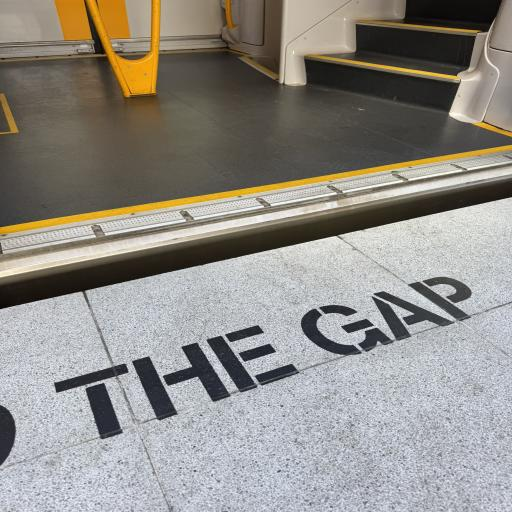gap: (0, 174, 512, 309)
